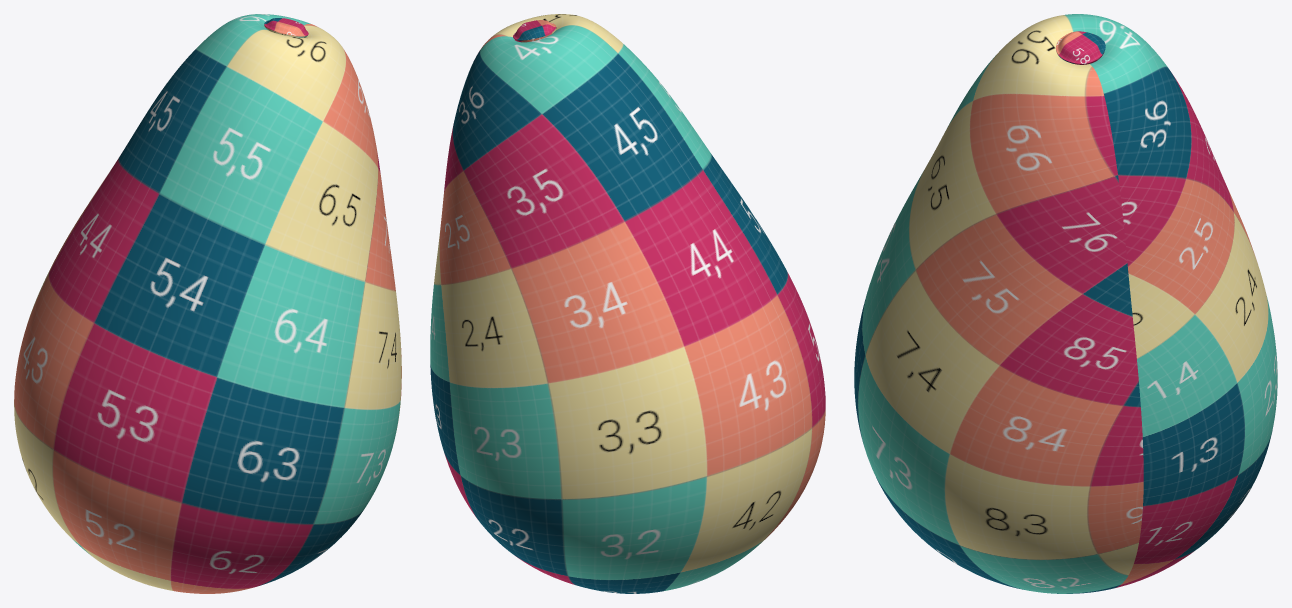
The model's file is Avocado.obj.
3 views of the same model, side by side, from view 1: azimuth 30°, elevation 25°; view 2: azimuth 150°, elevation 25°; view 3: azimuth 270°, elevation 25° (orthographic). The views are drawn at different scales.
Visible parts, largest first — view 1: avocado_001 Fruit_Bowl; view 2: avocado_001 Fruit_Bowl; view 3: avocado_001 Fruit_Bowl.
Part boxes in pixels (bbox=[...]): avocado_001 Fruit_Bowl: bbox=[14, 14, 401, 593]; avocado_001 Fruit_Bowl: bbox=[430, 14, 825, 593]; avocado_001 Fruit_Bowl: bbox=[854, 14, 1277, 593].
Size of the model in its own units: 8.32 by 12.48 by 8.17.
